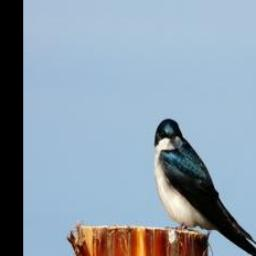Swallow: (152, 116, 256, 256)
